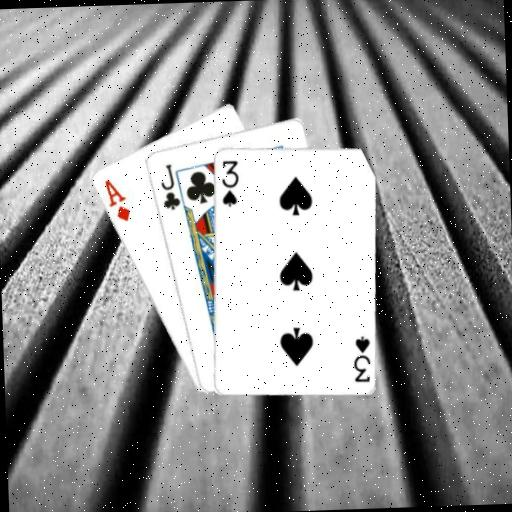3S: (217, 156, 241, 208), (349, 332, 372, 384)
AD: (100, 175, 131, 223)
JC: (156, 160, 181, 211)
